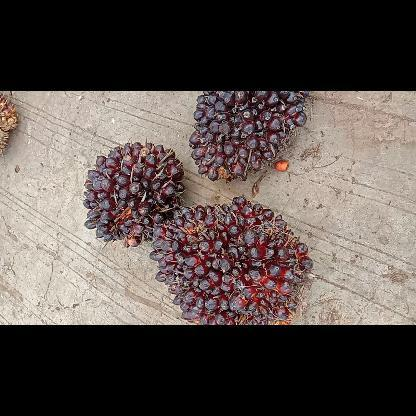TBS mentah: (148, 194, 322, 324), (185, 90, 311, 184), (80, 140, 186, 248)
